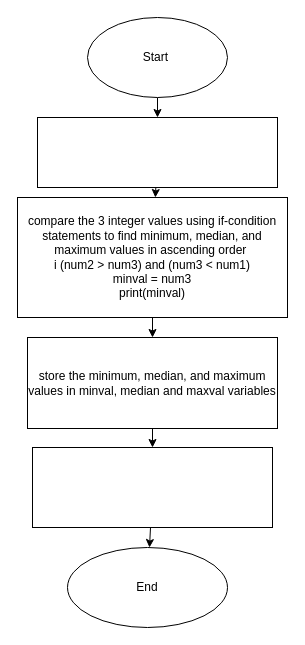
The diagram is 305 pixels wide and 645 high, and some of its shapes have lost their labels. The shapes that lost their labels are listed below. From the top down, each one's box as (x1, y1, x2, y2) in pixels, then its label:
(36, 116, 278, 188): Insert 3 Integer values for num1, num2, and num3
(32, 446, 272, 528): print minval, median. and maximum
